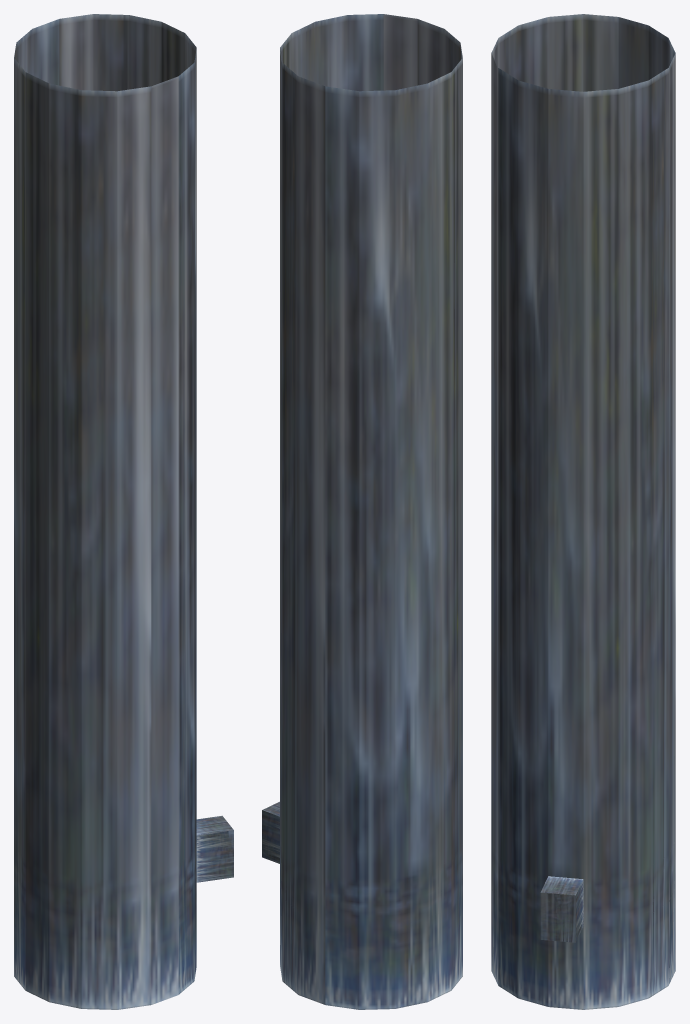
The model's file is Room0.gltf.
The picture shows the model from 3 angles, left to right: view 1: azimuth 30°, elevation 25°; view 2: azimuth 150°, elevation 25°; view 3: azimuth 270°, elevation 25°; orthographic projection.
Visible parts, largest first — view 1: Cube; view 2: Cube; view 3: Cube.
Part boxes in pixels (x1,y1,x2,y2): Cube: (14, 14, 233, 1009); Cube: (262, 14, 462, 1009); Cube: (491, 14, 675, 1009).
Bounding box in the file's own units: 2.42 × 11 × 2.
1 material, 1 textured.
